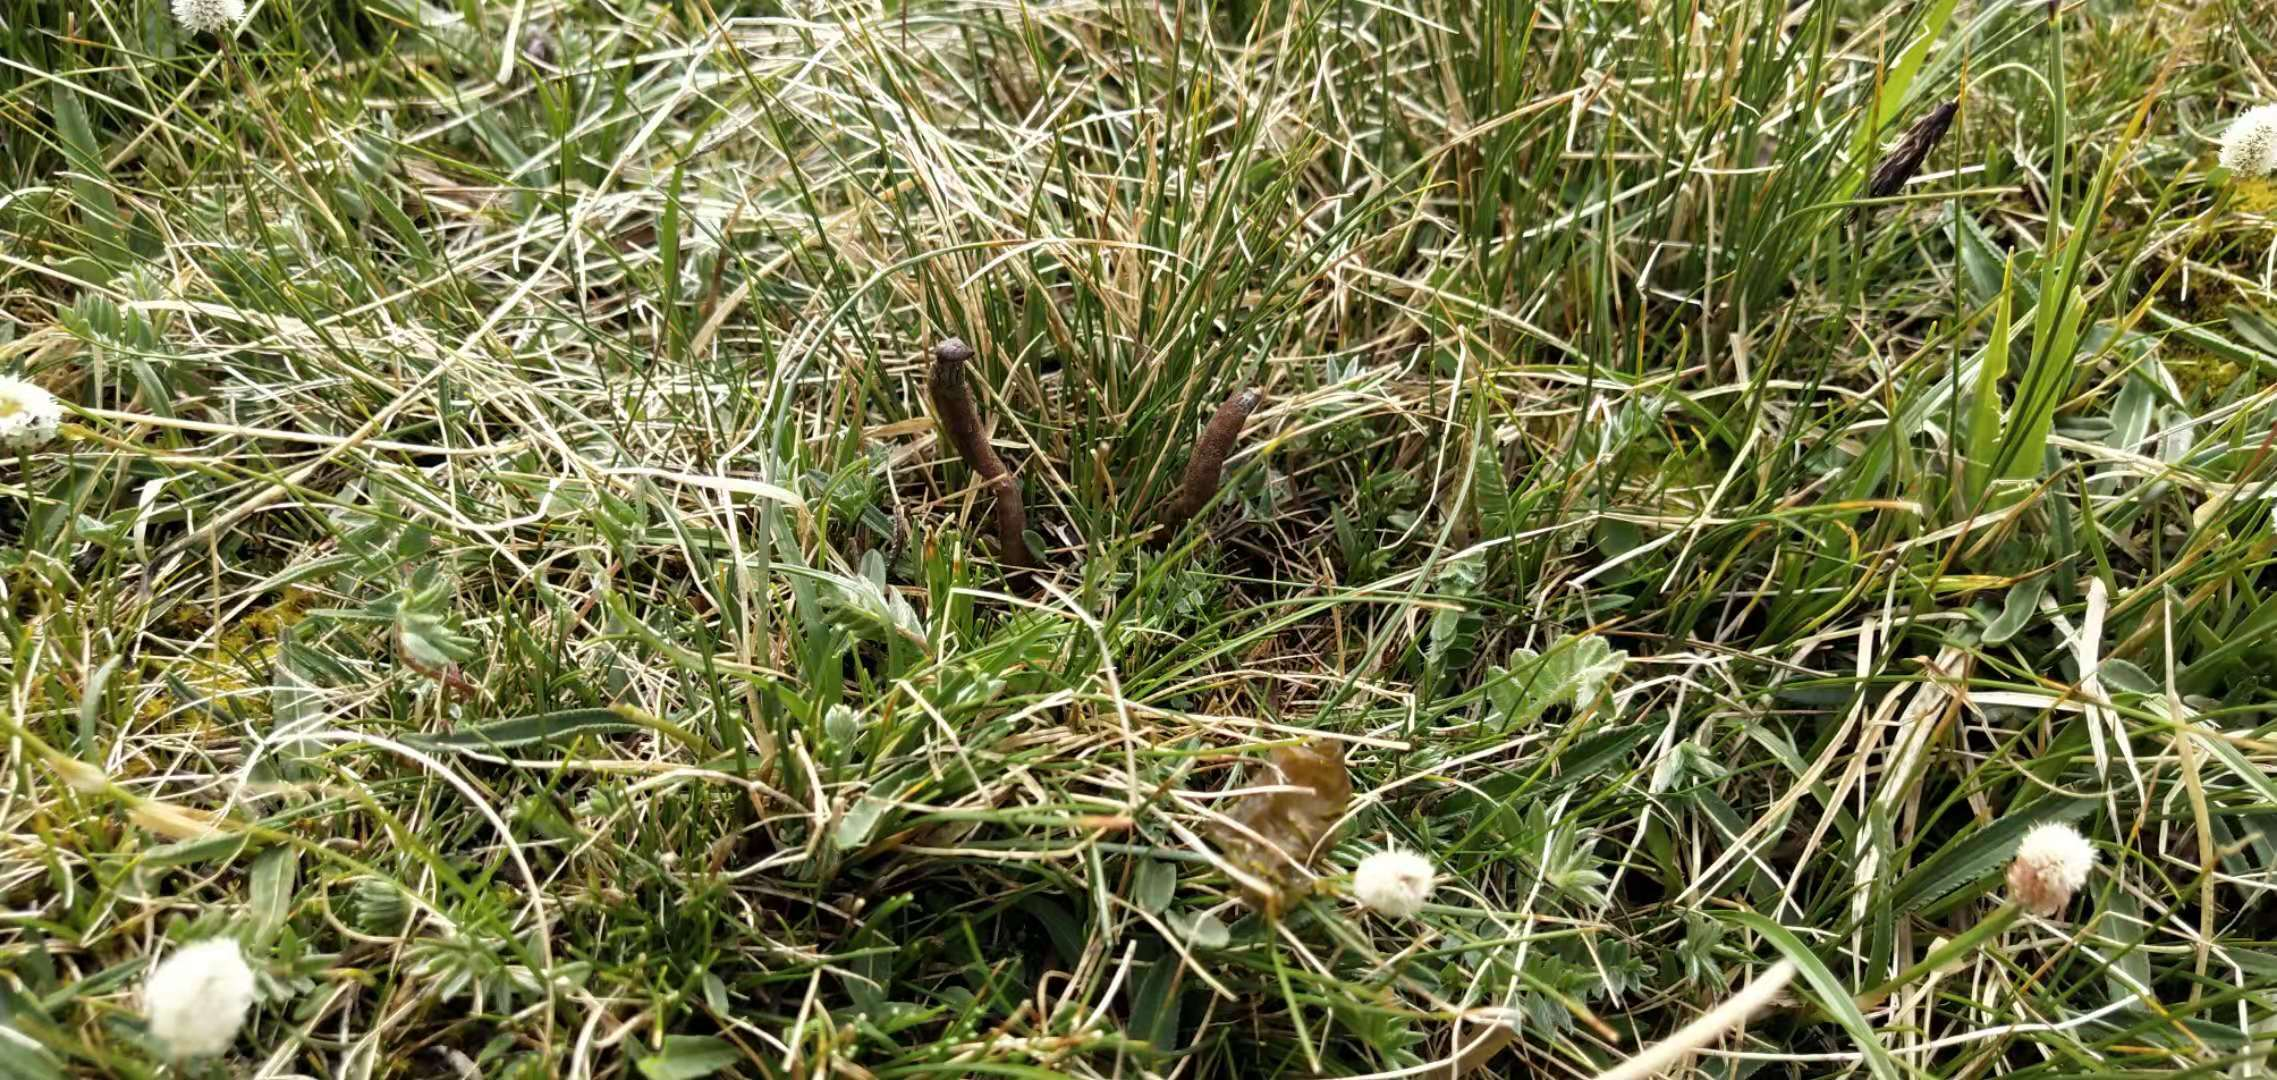Chongcao: (928, 340, 1028, 570), (1160, 383, 1263, 541)
